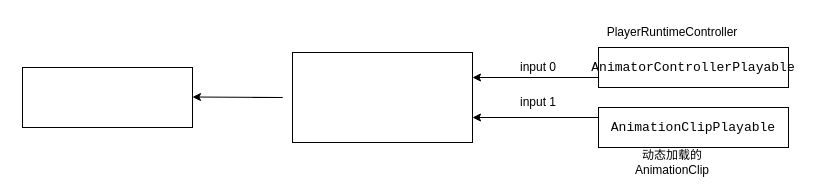
Some shapes in this 813 by 194 pixel diagram are drawn without their labels. Here are the shapes that lost their labels. From the top down, the centre of each, then its label:
At [107,97]: "AnimationPlayableOutput".
At [382,97]: "AnimationMixerPlayable".
